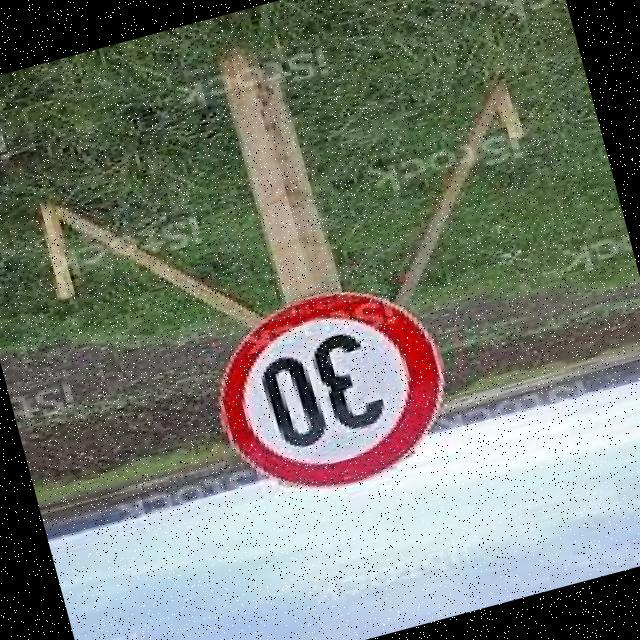speed_limit_30: (178, 260, 470, 519)
